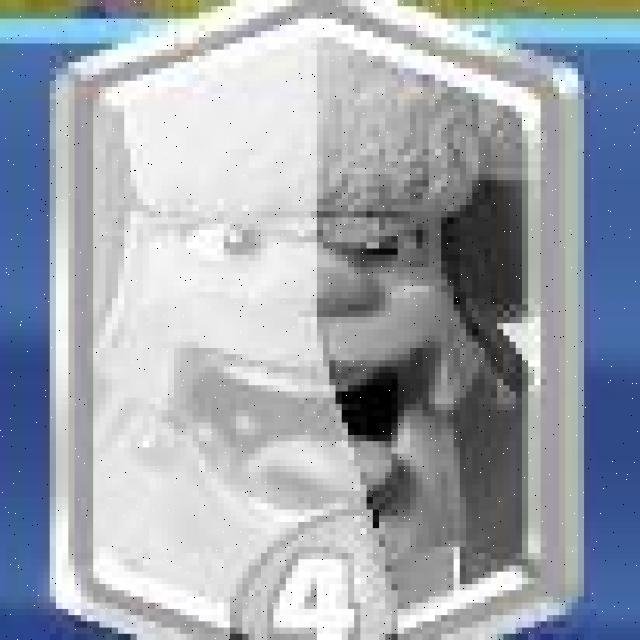Lumberjack: (64, 0, 579, 640)
